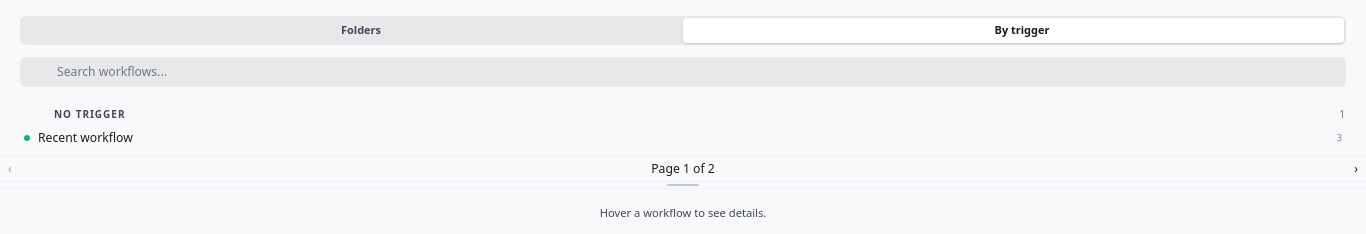
Test: WorkflowBrowser info card › searches the server catalogue and pages to workflows outside the recent cap
This screenshot has width=1366, height=234.
Expected: the button "Recent workflow 3" is shown, [12,128,1354,148]
Click the button named "Next page".
click(1356, 168)  # box [1354,160,1358,176]
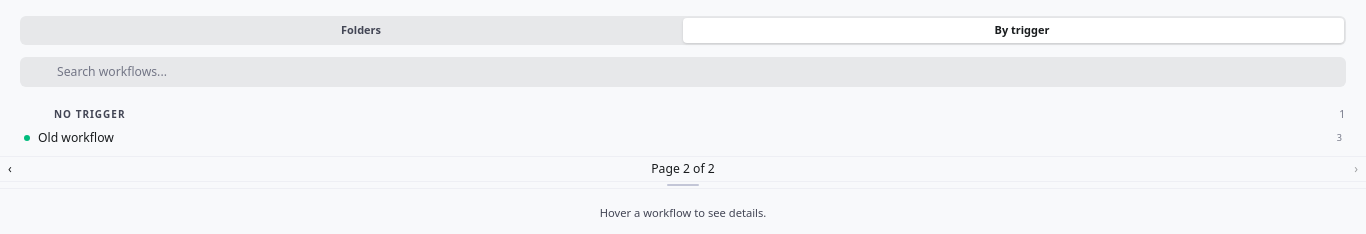
Result: the button "Old workflow 3" is shown at [12,128,1354,148]
Type "required job" into the field.
click(683, 72); type("required job")  # box [20,56,1346,86]
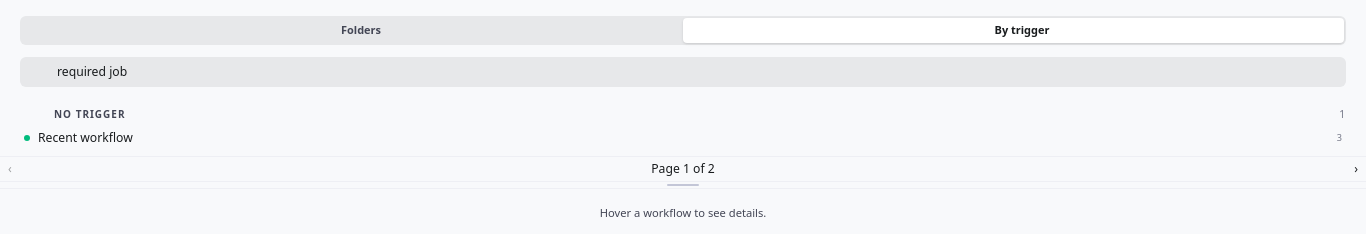
Result: the button "Recent workflow 3" is shown at [12,128,1354,148]
